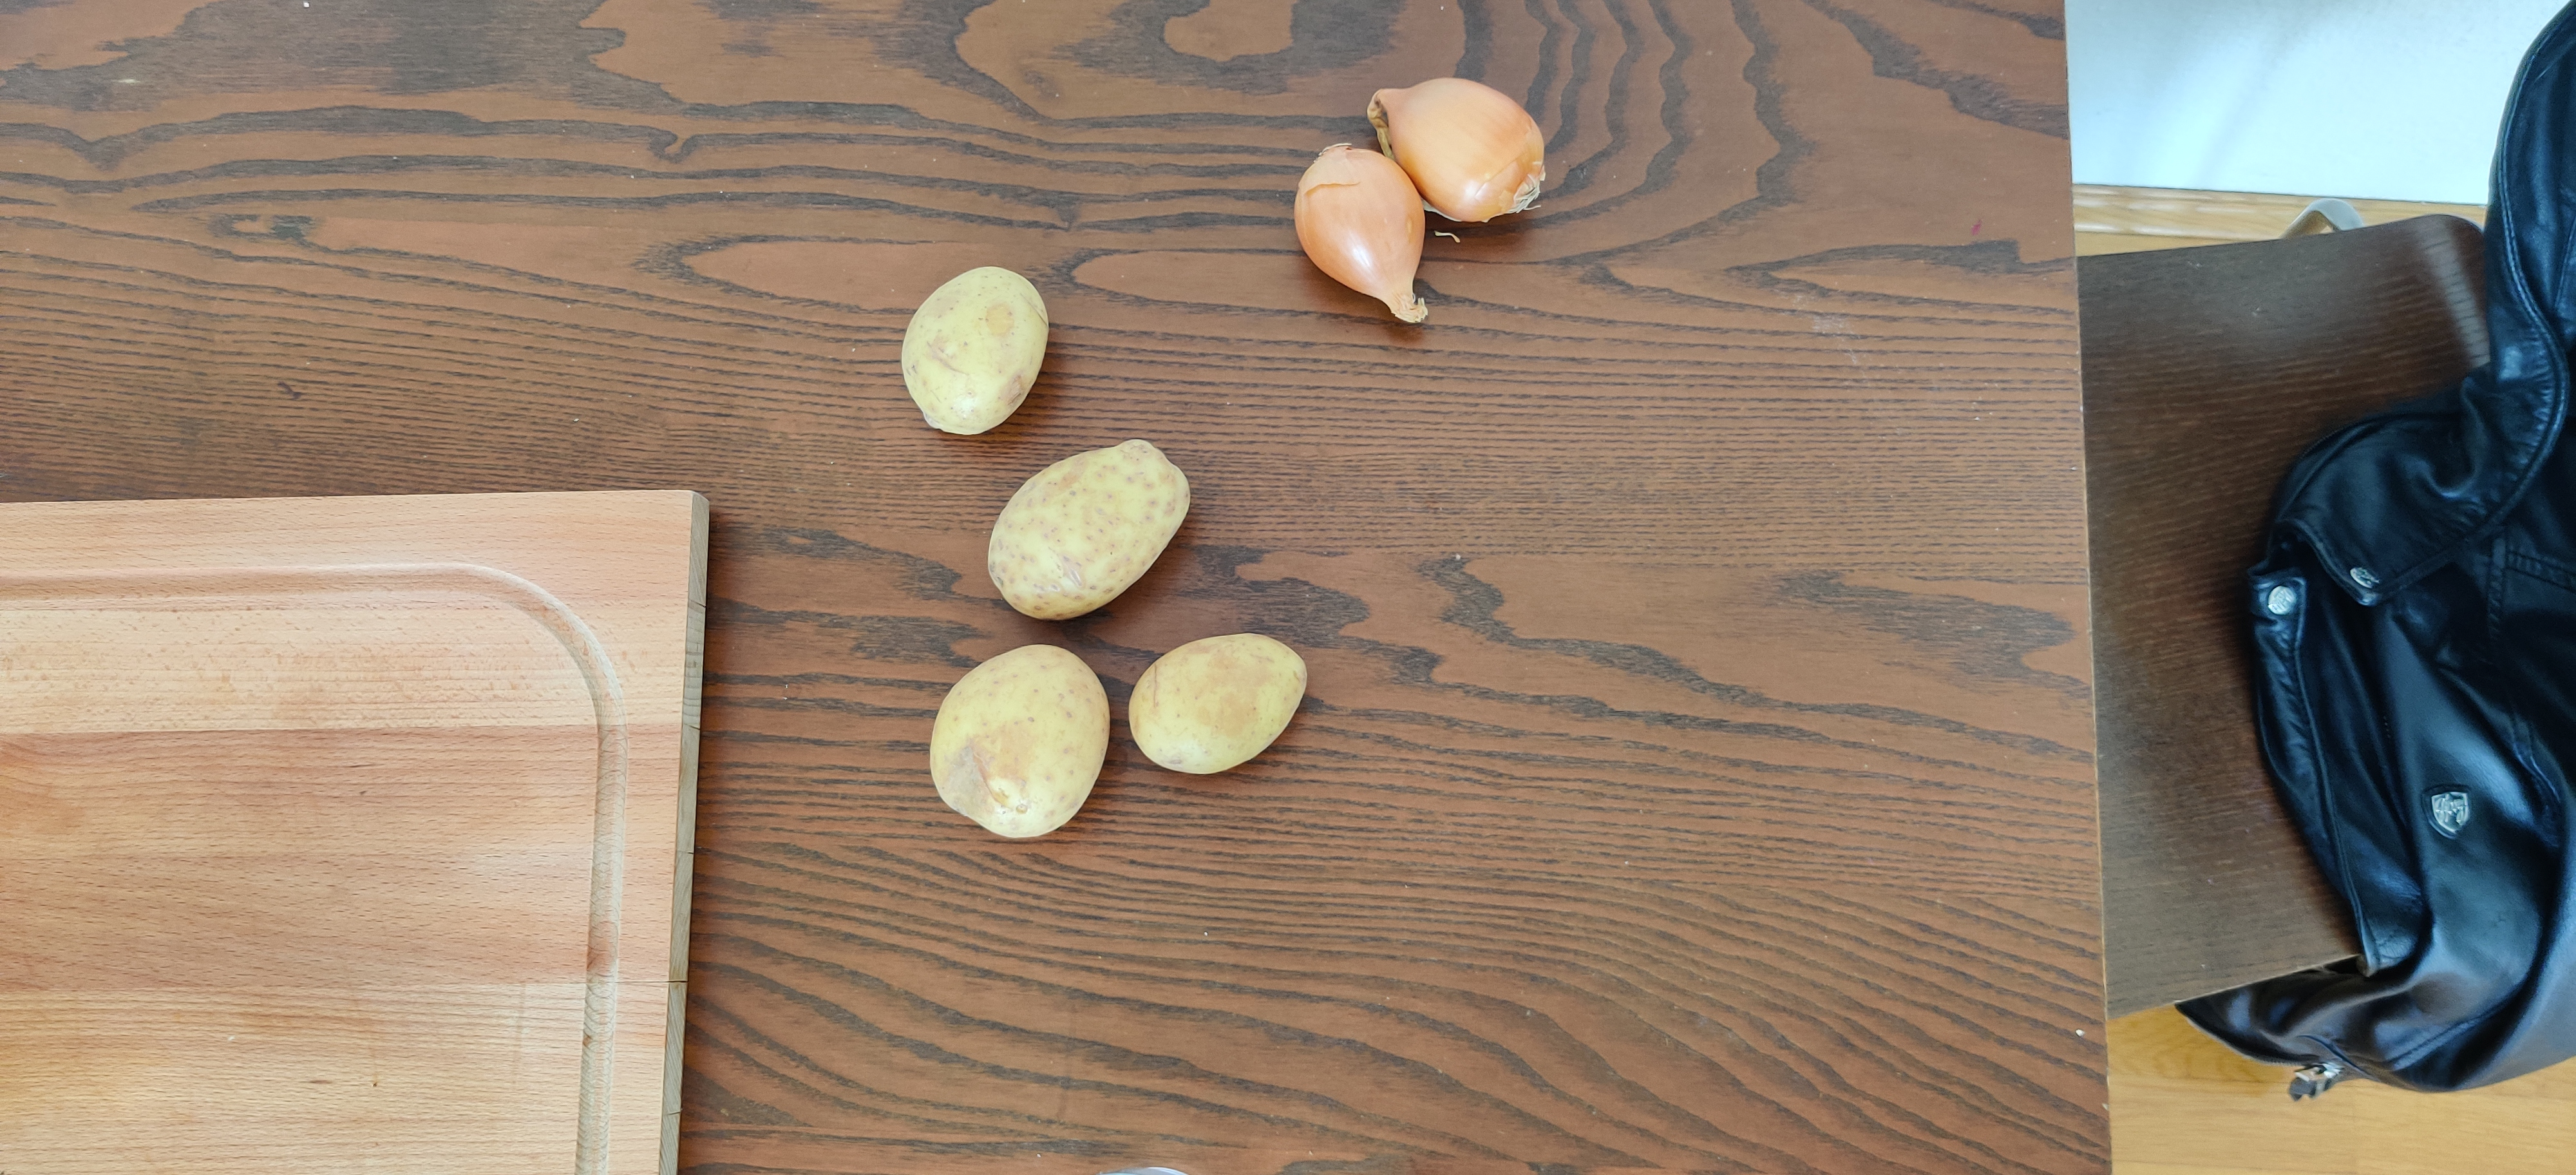Kartoffel: (987, 440, 1191, 621), (931, 643, 1111, 838), (1129, 633, 1309, 774), (900, 266, 1050, 435)
